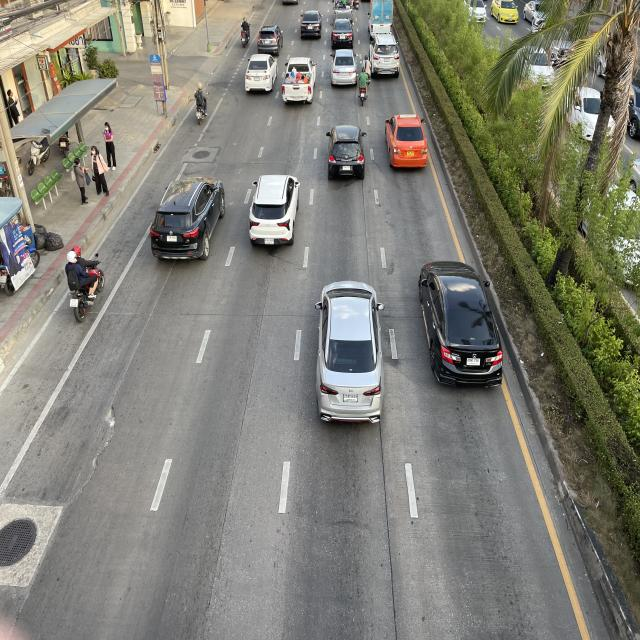bike: (64, 235, 107, 326), (192, 81, 212, 128), (238, 15, 252, 51), (357, 68, 369, 108), (360, 54, 372, 87)
car: (414, 249, 506, 393), (312, 271, 390, 437), (148, 173, 228, 264), (245, 172, 302, 255), (382, 104, 431, 173), (326, 116, 368, 190)
truck: (280, 54, 319, 108)
